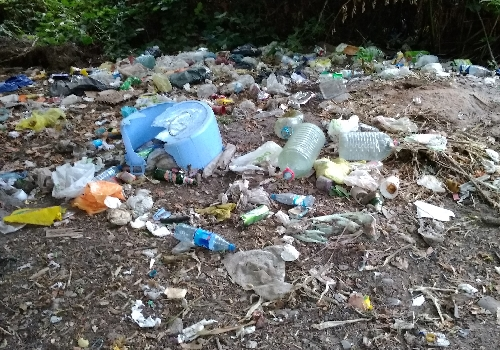trash: (8, 40, 495, 311)
